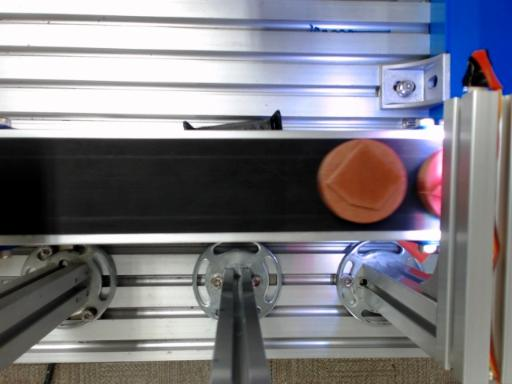Brown_Waper: (318, 139, 407, 223)
